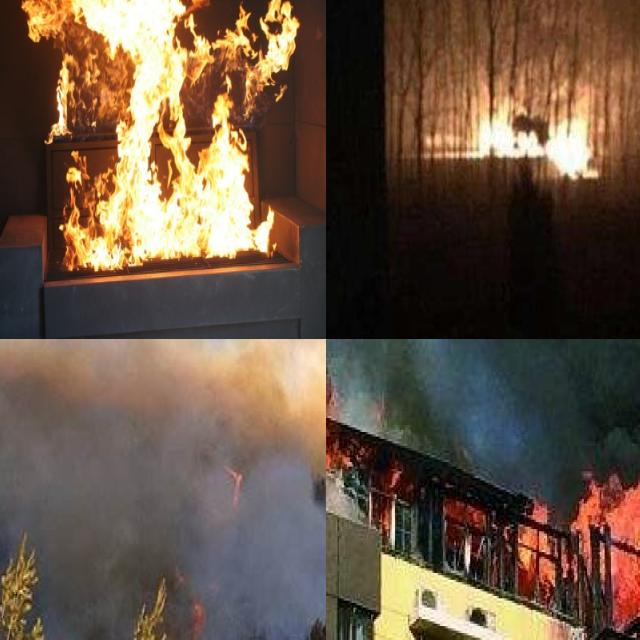fire: (1, 0, 290, 260), (513, 464, 640, 640), (479, 104, 600, 179), (326, 349, 342, 499), (222, 461, 250, 513), (190, 596, 204, 636)
smoke: (0, 339, 326, 640), (371, 339, 640, 478)
